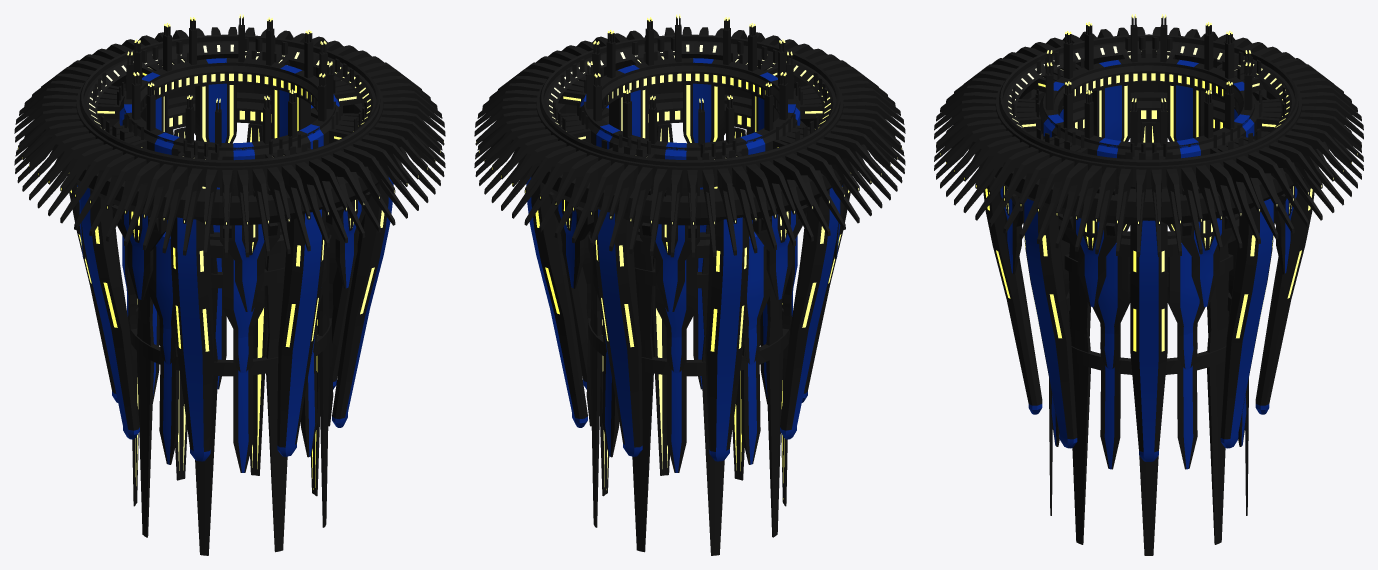
The model's file is 01_hero_VeinPortal.glb.
The picture shows the model from 3 angles, left to right: view 1: azimuth 30°, elevation 25°; view 2: azimuth 150°, elevation 25°; view 3: azimuth 270°, elevation 25°; orthographic projection.
Parts seen in each view (by area): view 1: 01_hero_VeinPortal_old, 01_hero_VeinPortal, 01_hero_VeinPortal_hanger, 01_hero_VeinPortal_ring, 01_hero_VeinPortal.002; view 2: 01_hero_VeinPortal_old, 01_hero_VeinPortal, 01_hero_VeinPortal_hanger, 01_hero_VeinPortal_ring, 01_hero_VeinPortal.002; view 3: 01_hero_VeinPortal_old, 01_hero_VeinPortal, 01_hero_VeinPortal_hanger, 01_hero_VeinPortal_ring, 01_hero_VeinPortal.002.
Part boxes in pixels (box(x1,y1,x2,y2)): 01_hero_VeinPortal_old: box(14, 14, 445, 372); 01_hero_VeinPortal: box(14, 34, 445, 461); 01_hero_VeinPortal_hanger: box(122, 186, 337, 555); 01_hero_VeinPortal_ring: box(119, 58, 339, 156); 01_hero_VeinPortal.002: box(114, 92, 317, 130); 01_hero_VeinPortal_old: box(474, 14, 905, 373); 01_hero_VeinPortal: box(474, 34, 905, 461); 01_hero_VeinPortal_hanger: box(582, 186, 797, 555); 01_hero_VeinPortal_ring: box(580, 58, 800, 156); 01_hero_VeinPortal.002: box(602, 92, 805, 130); 01_hero_VeinPortal_old: box(934, 14, 1363, 369); 01_hero_VeinPortal: box(934, 34, 1363, 461); 01_hero_VeinPortal_hanger: box(1049, 213, 1248, 555); 01_hero_VeinPortal_ring: box(1039, 58, 1258, 156); 01_hero_VeinPortal.002: box(1028, 92, 1269, 139).
Size of the model in its own units: 0.7809 by 0.9163 by 0.7809.
